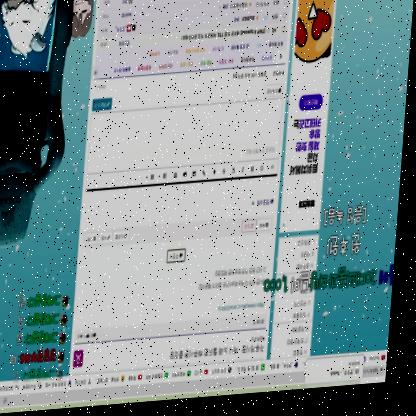donation: (267, 208, 402, 303)
